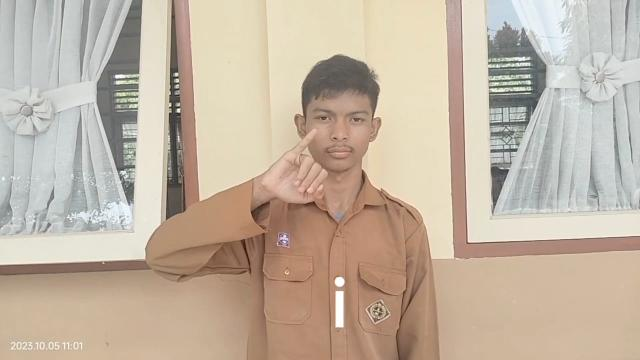I: (270, 124, 328, 206)
